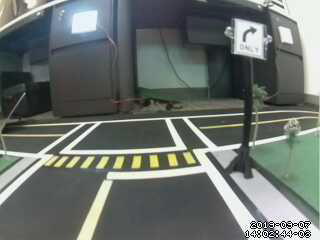Right_only_sign: (235, 18, 266, 57)
